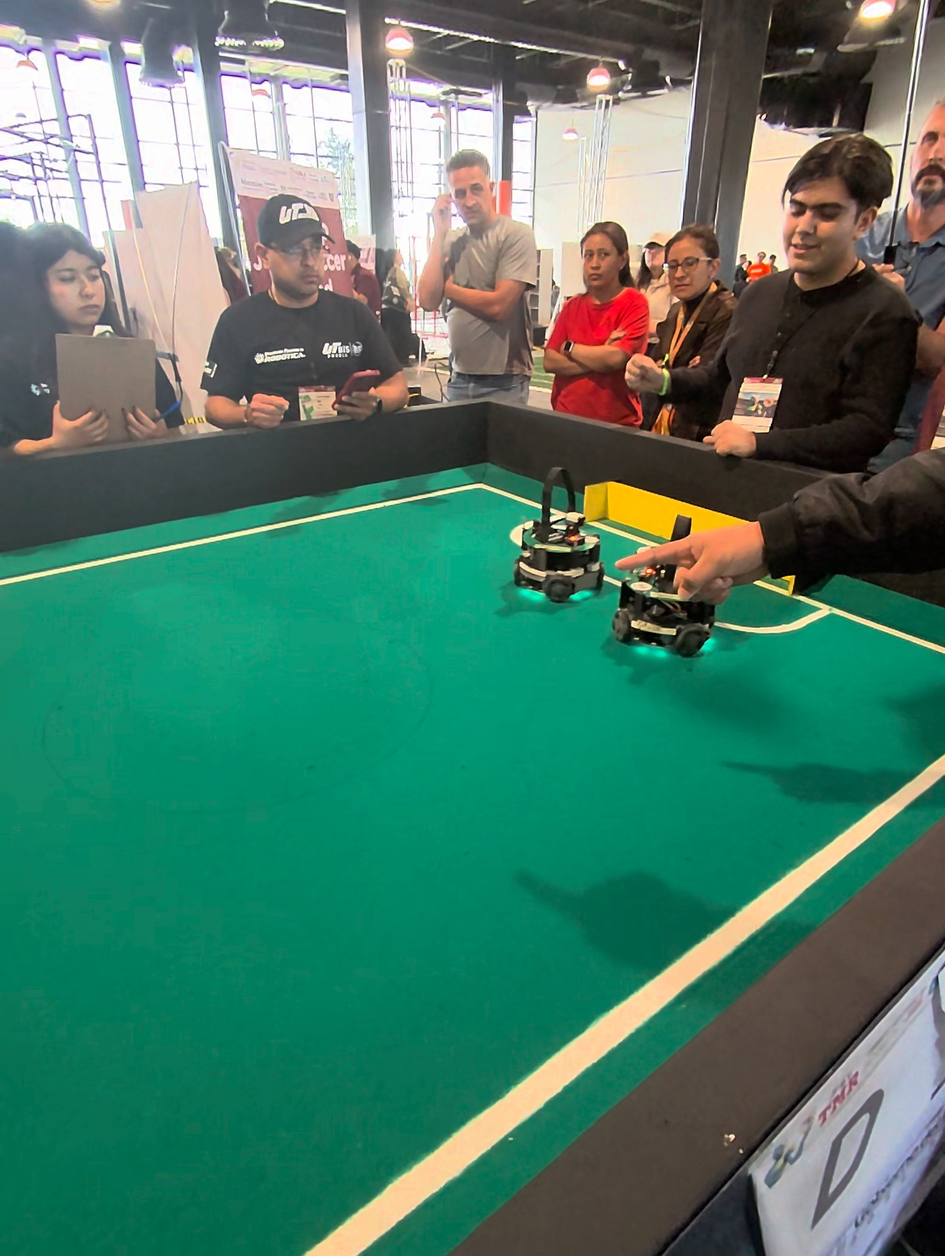Robot: (614, 521, 730, 667), (511, 465, 599, 610)
